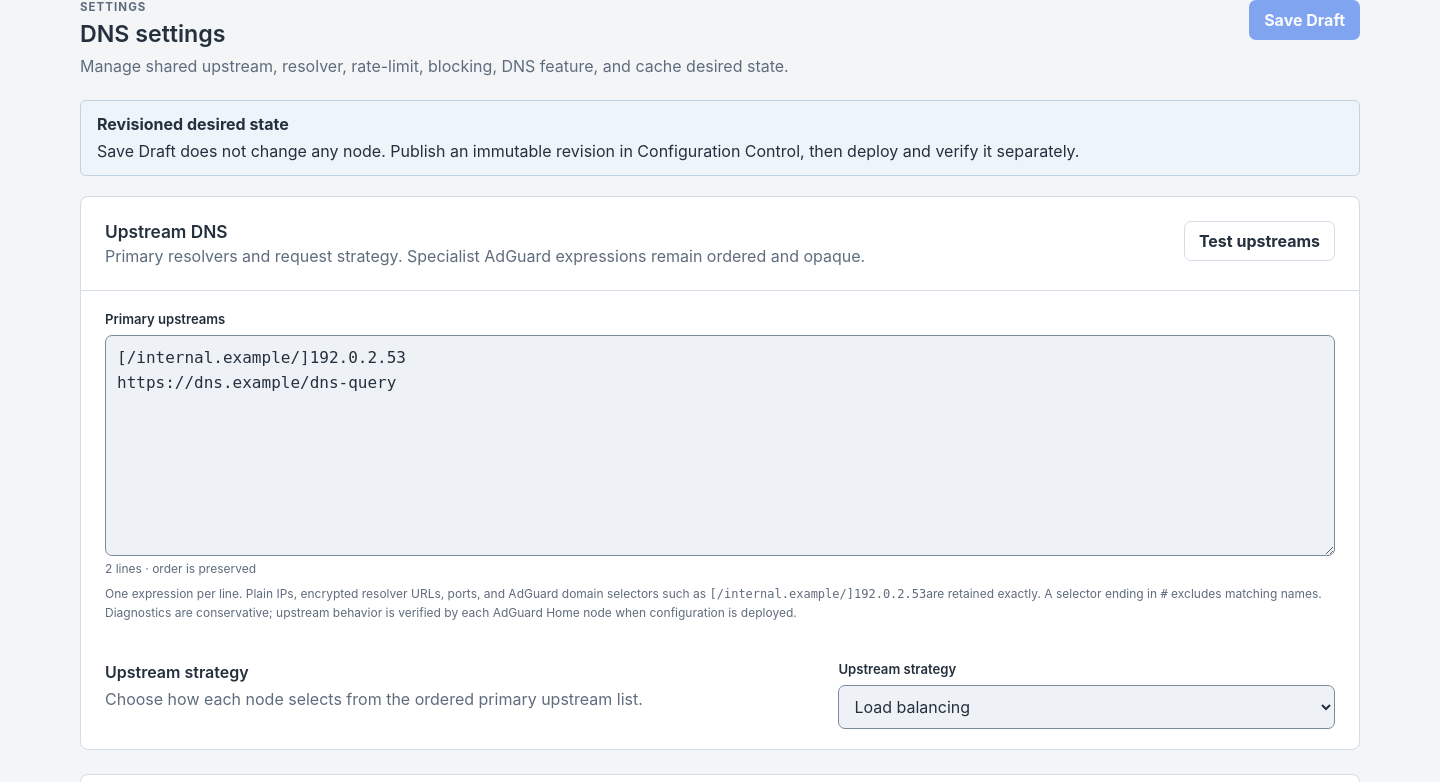
it: DNS Settings › tests current unsaved upstream values across an explicit fleet scope and keeps partial results
Replace the text in the text box labelled "Primary upstreams" with "tls://unsaved.example" at [720, 446], box [105,335,1335,556]
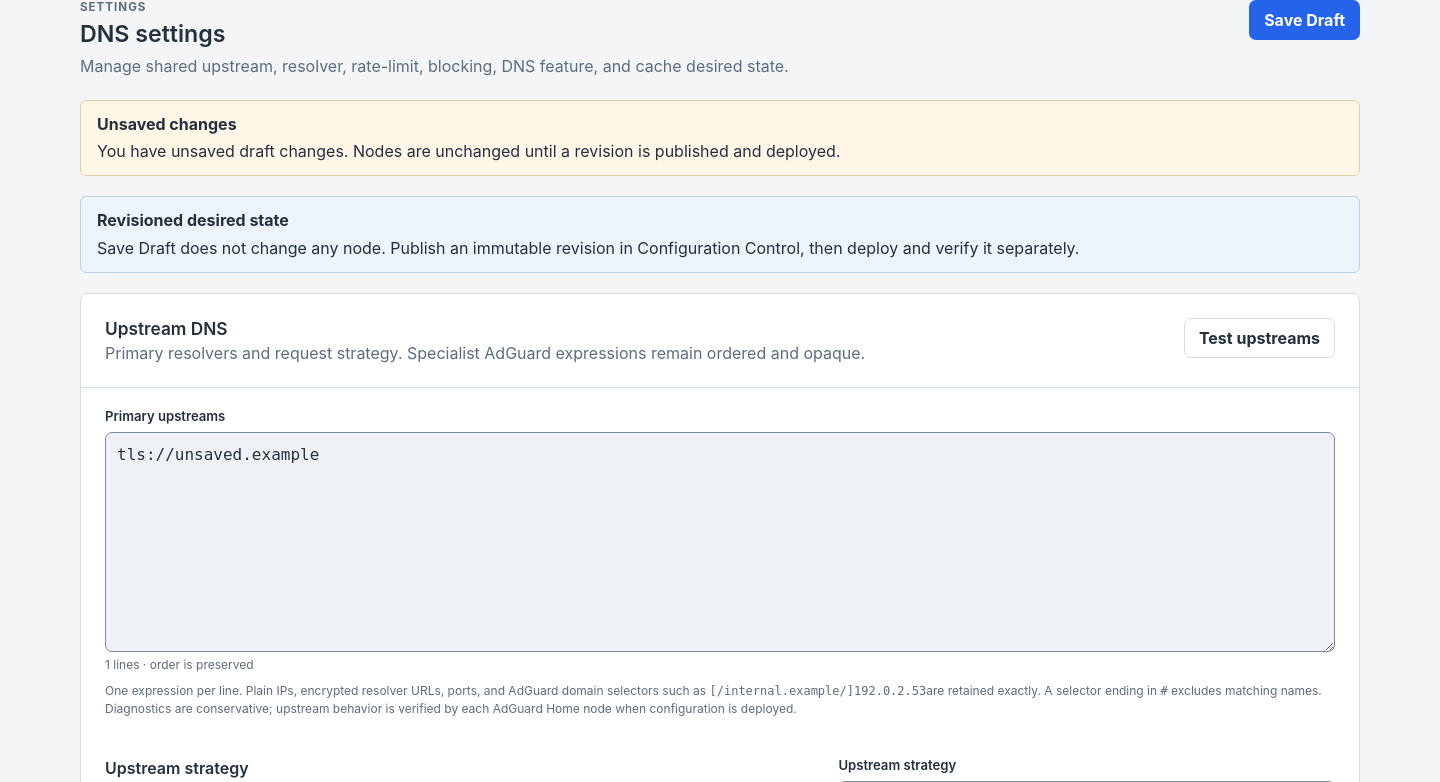
Click the button "Test upstreams" at [1259, 338], box [1184,318,1335,358]
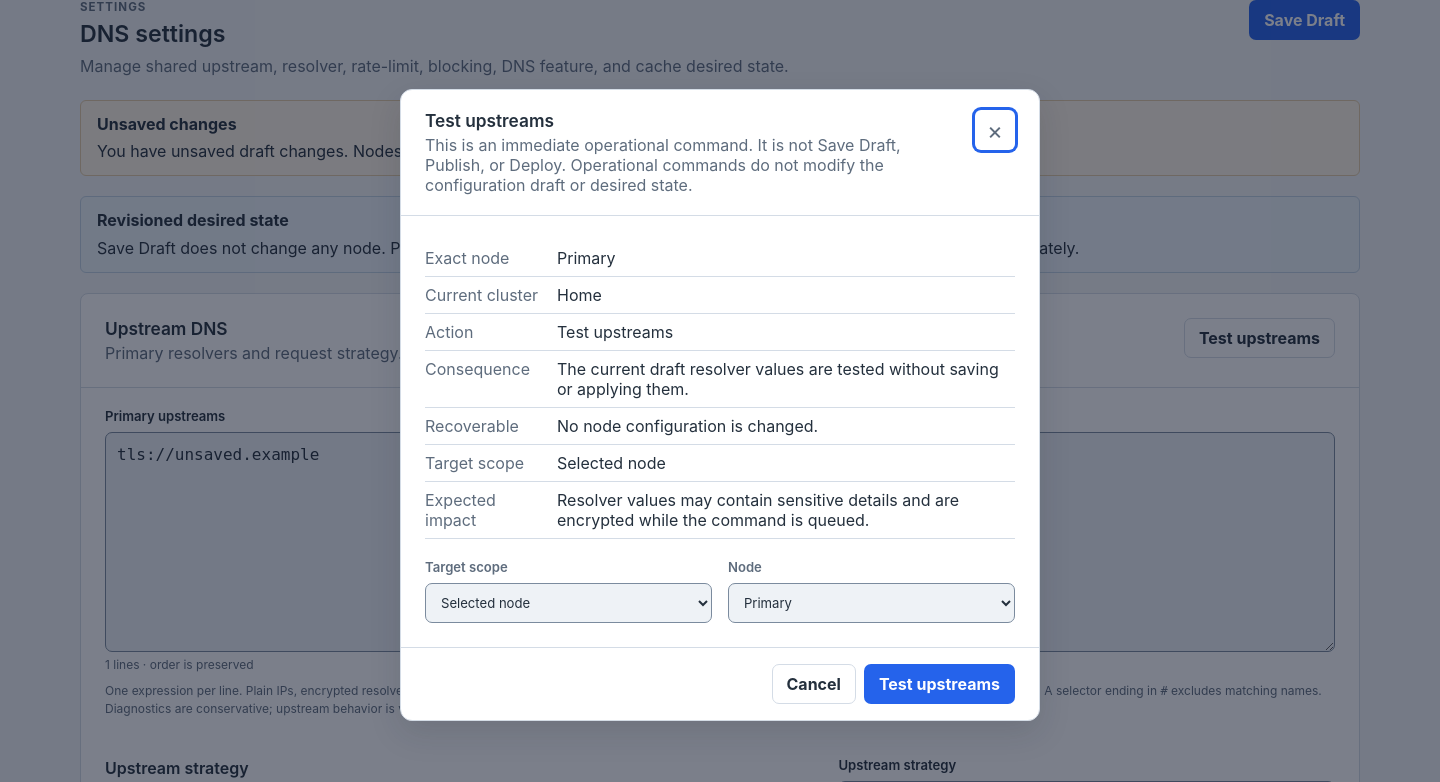
Select "All compatible enabled nodes" in the dropdown labelled "Target scope" at [568, 603], box [425,583,712,623]
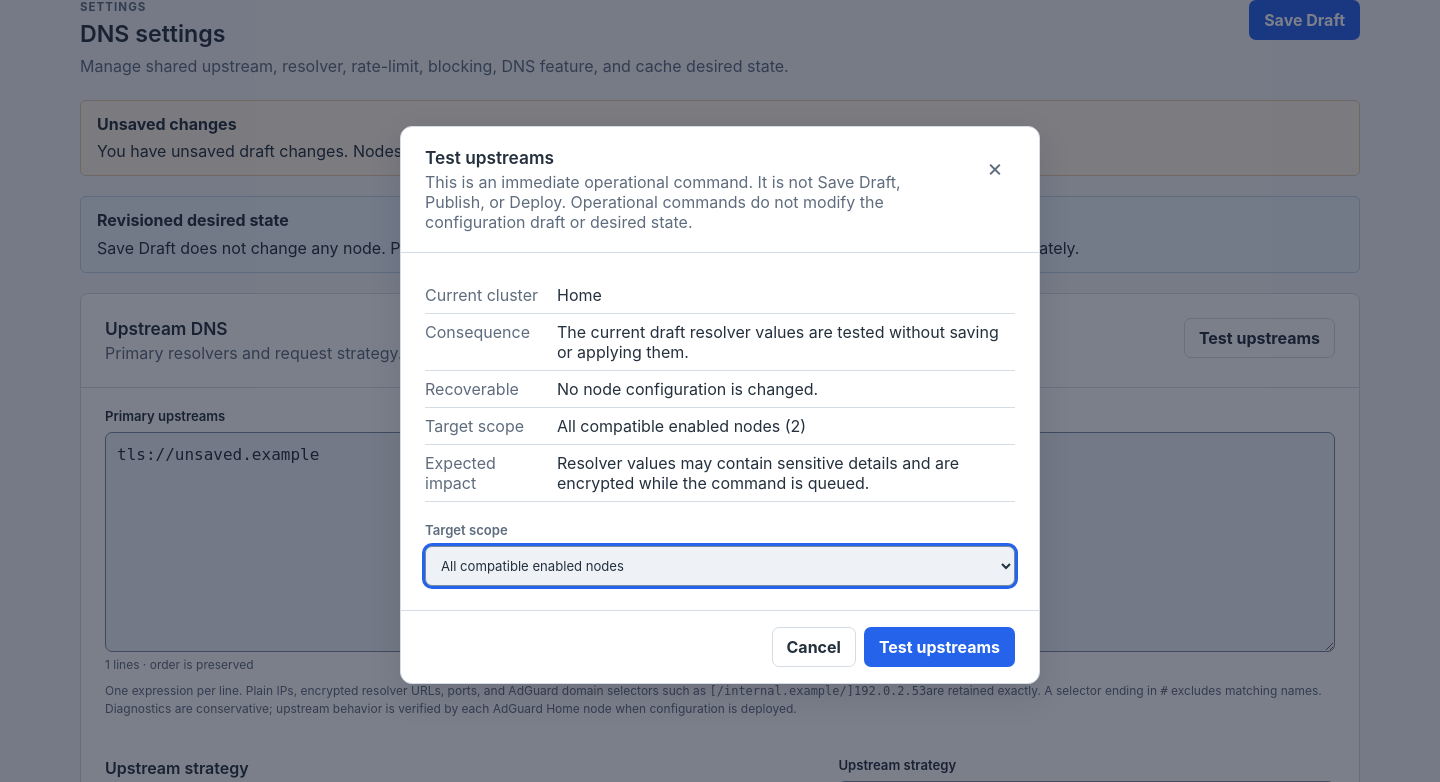
Expected: the text "All compatible enabled nodes (2)" is shown, [557,416,806,436]
Click the button "Test upstreams" at [939, 647], box [864,627,1015,667]
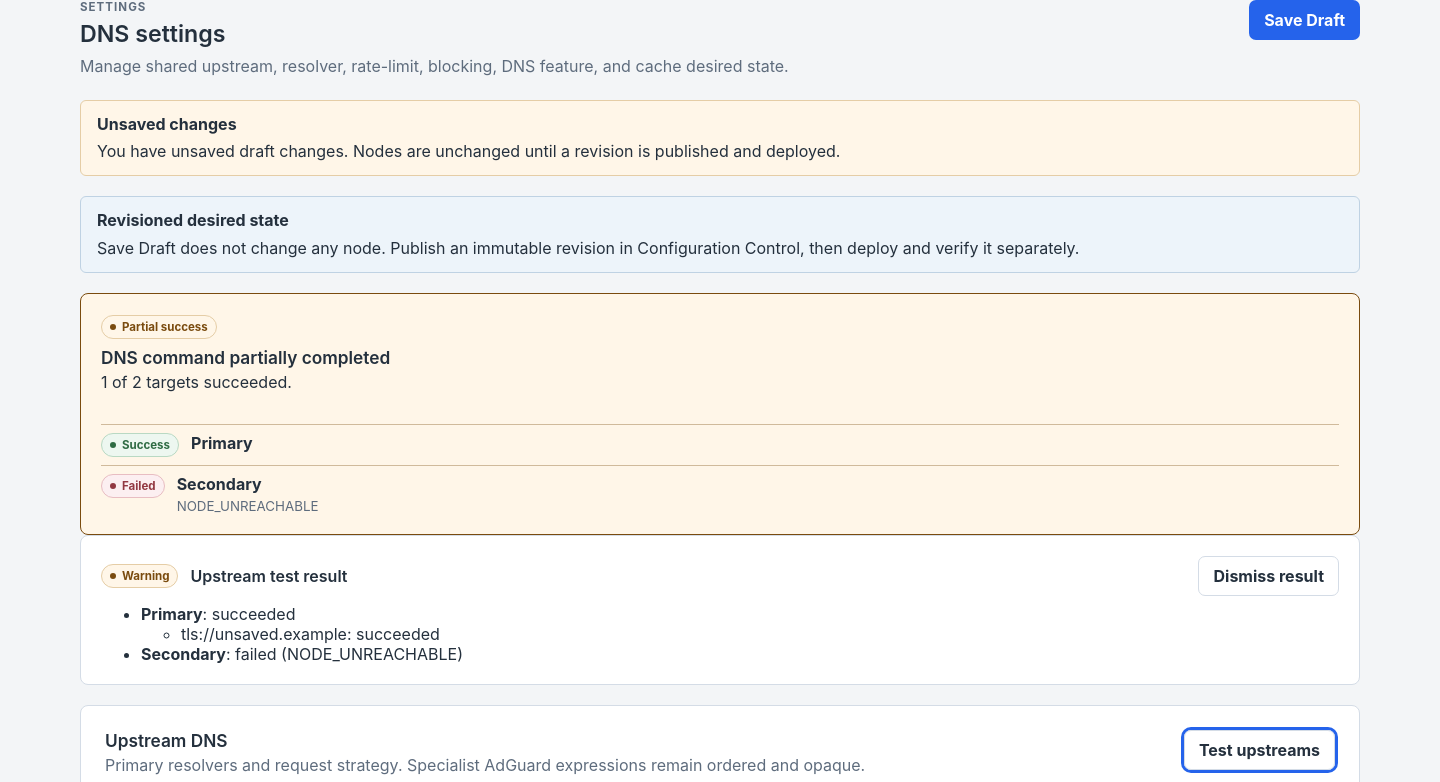
Expected: the heading "DNS command partially completed" is shown, [101,347,390,368]
Expected: the list item "tls://unsaved.example: succeeded" is shown, [181,624,440,644]
Expected: the text "NODE_UNREACHABLE" is shown, [177,498,318,514]
